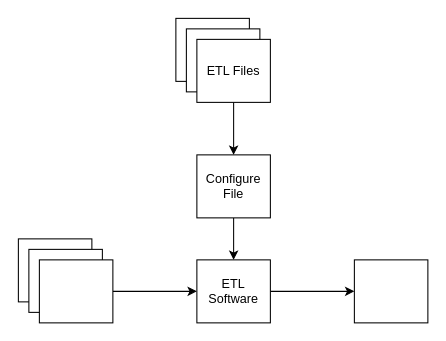
Image size: 446x341. Some labels were removed from this diagram. Here are the shapes that lost their labels. From the top down, the centre of each, then its label:
At (75,291): "CSVs".
At (390,291): "CSV".
